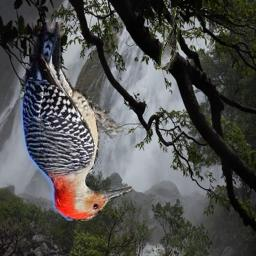Cuckoo: (158, 8, 181, 71)
Woodpecker: (20, 23, 132, 222)
